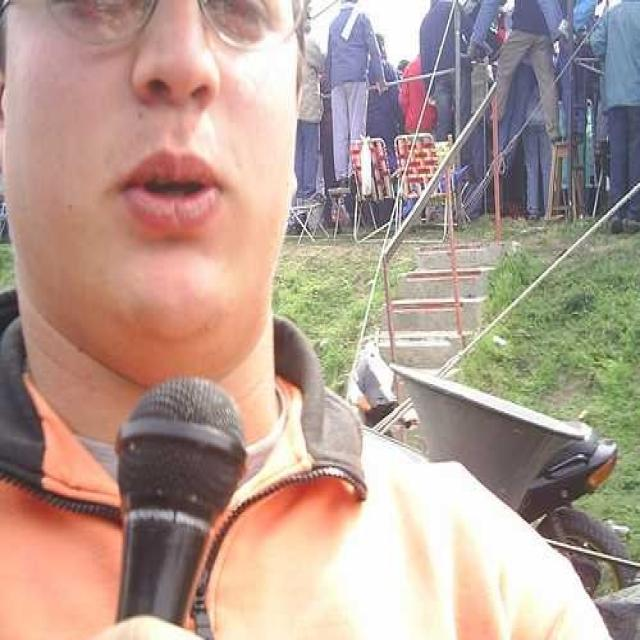microphone: (109, 372, 248, 634)
